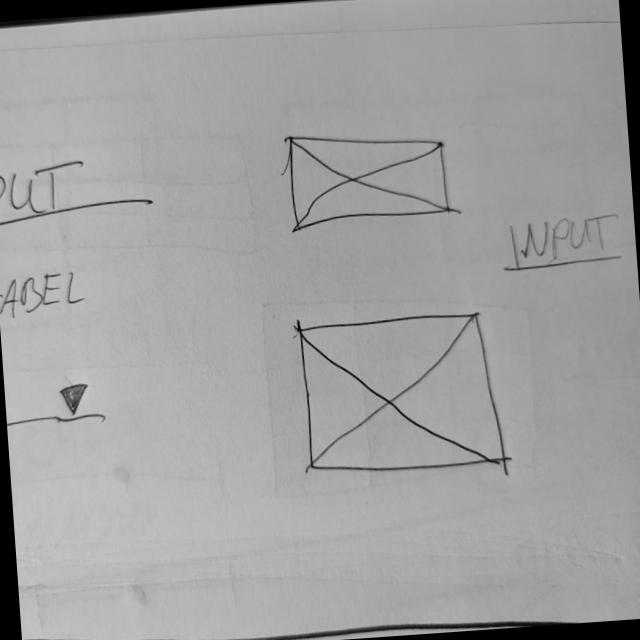button: (276, 116, 460, 240)
input: (0, 151, 159, 243)
label: (0, 259, 92, 339)
select: (3, 369, 112, 441)
